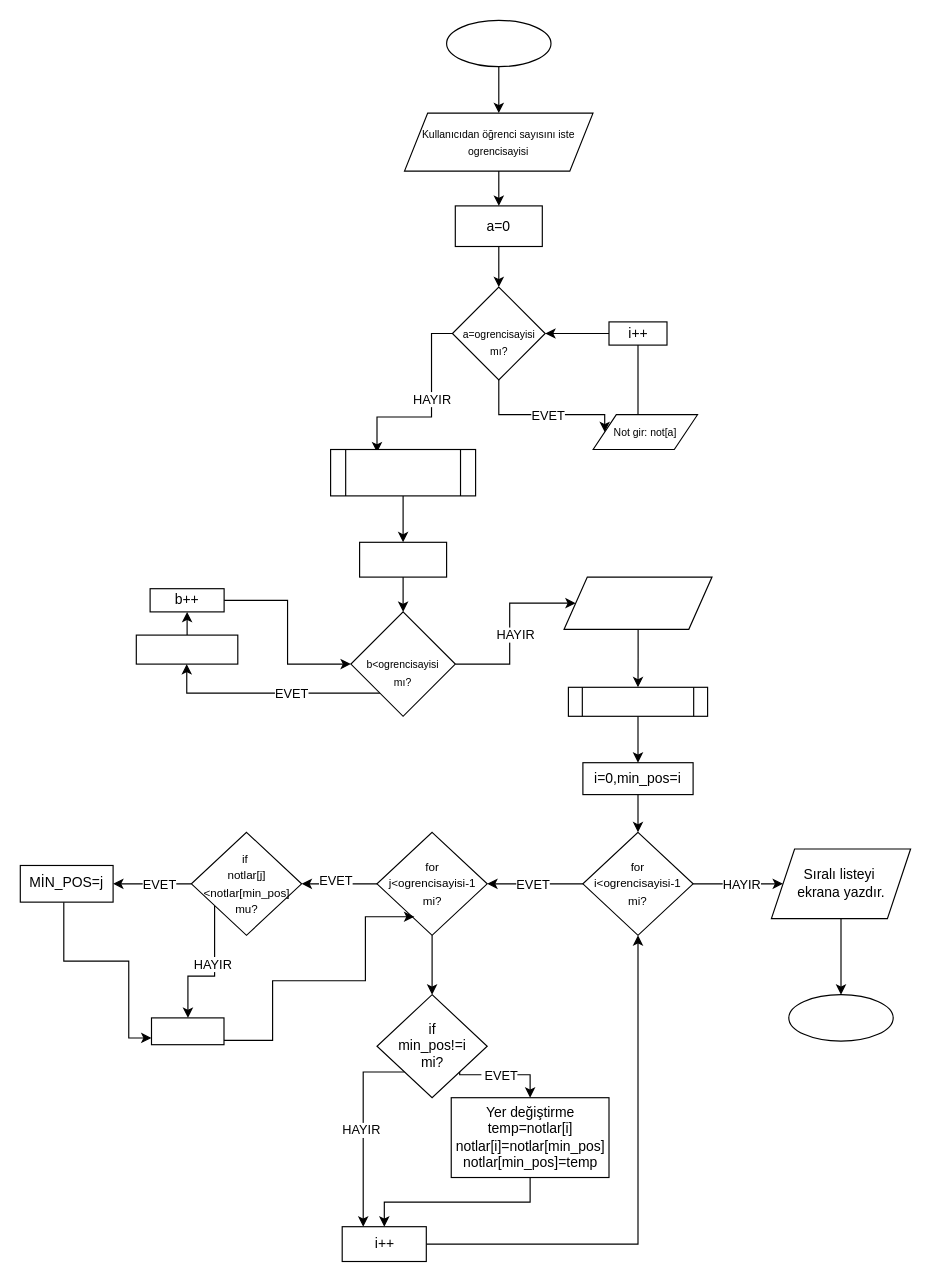
Image size: 931x1282. Some labels were removed from this diagram. The shapes that lost their labels are listed below. From the top down, each one's centre as x and y in pixels, then its label:
point 498,43: Başla
point 402,472: orthesapla Fonk.
point 402,559: toplam=0
point 637,602: Sonucu ekrana yaz.
point 186,649: toplam+=not[b]
point 637,701: sort Fonk.
point 187,1031: j++
point 840,1017: BİTİR-Main
